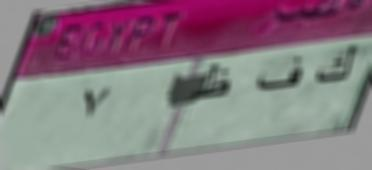7: (75, 83, 116, 128)
Thaa: (190, 62, 240, 102)
faa: (255, 52, 306, 96)
kaaf: (310, 40, 362, 93)
